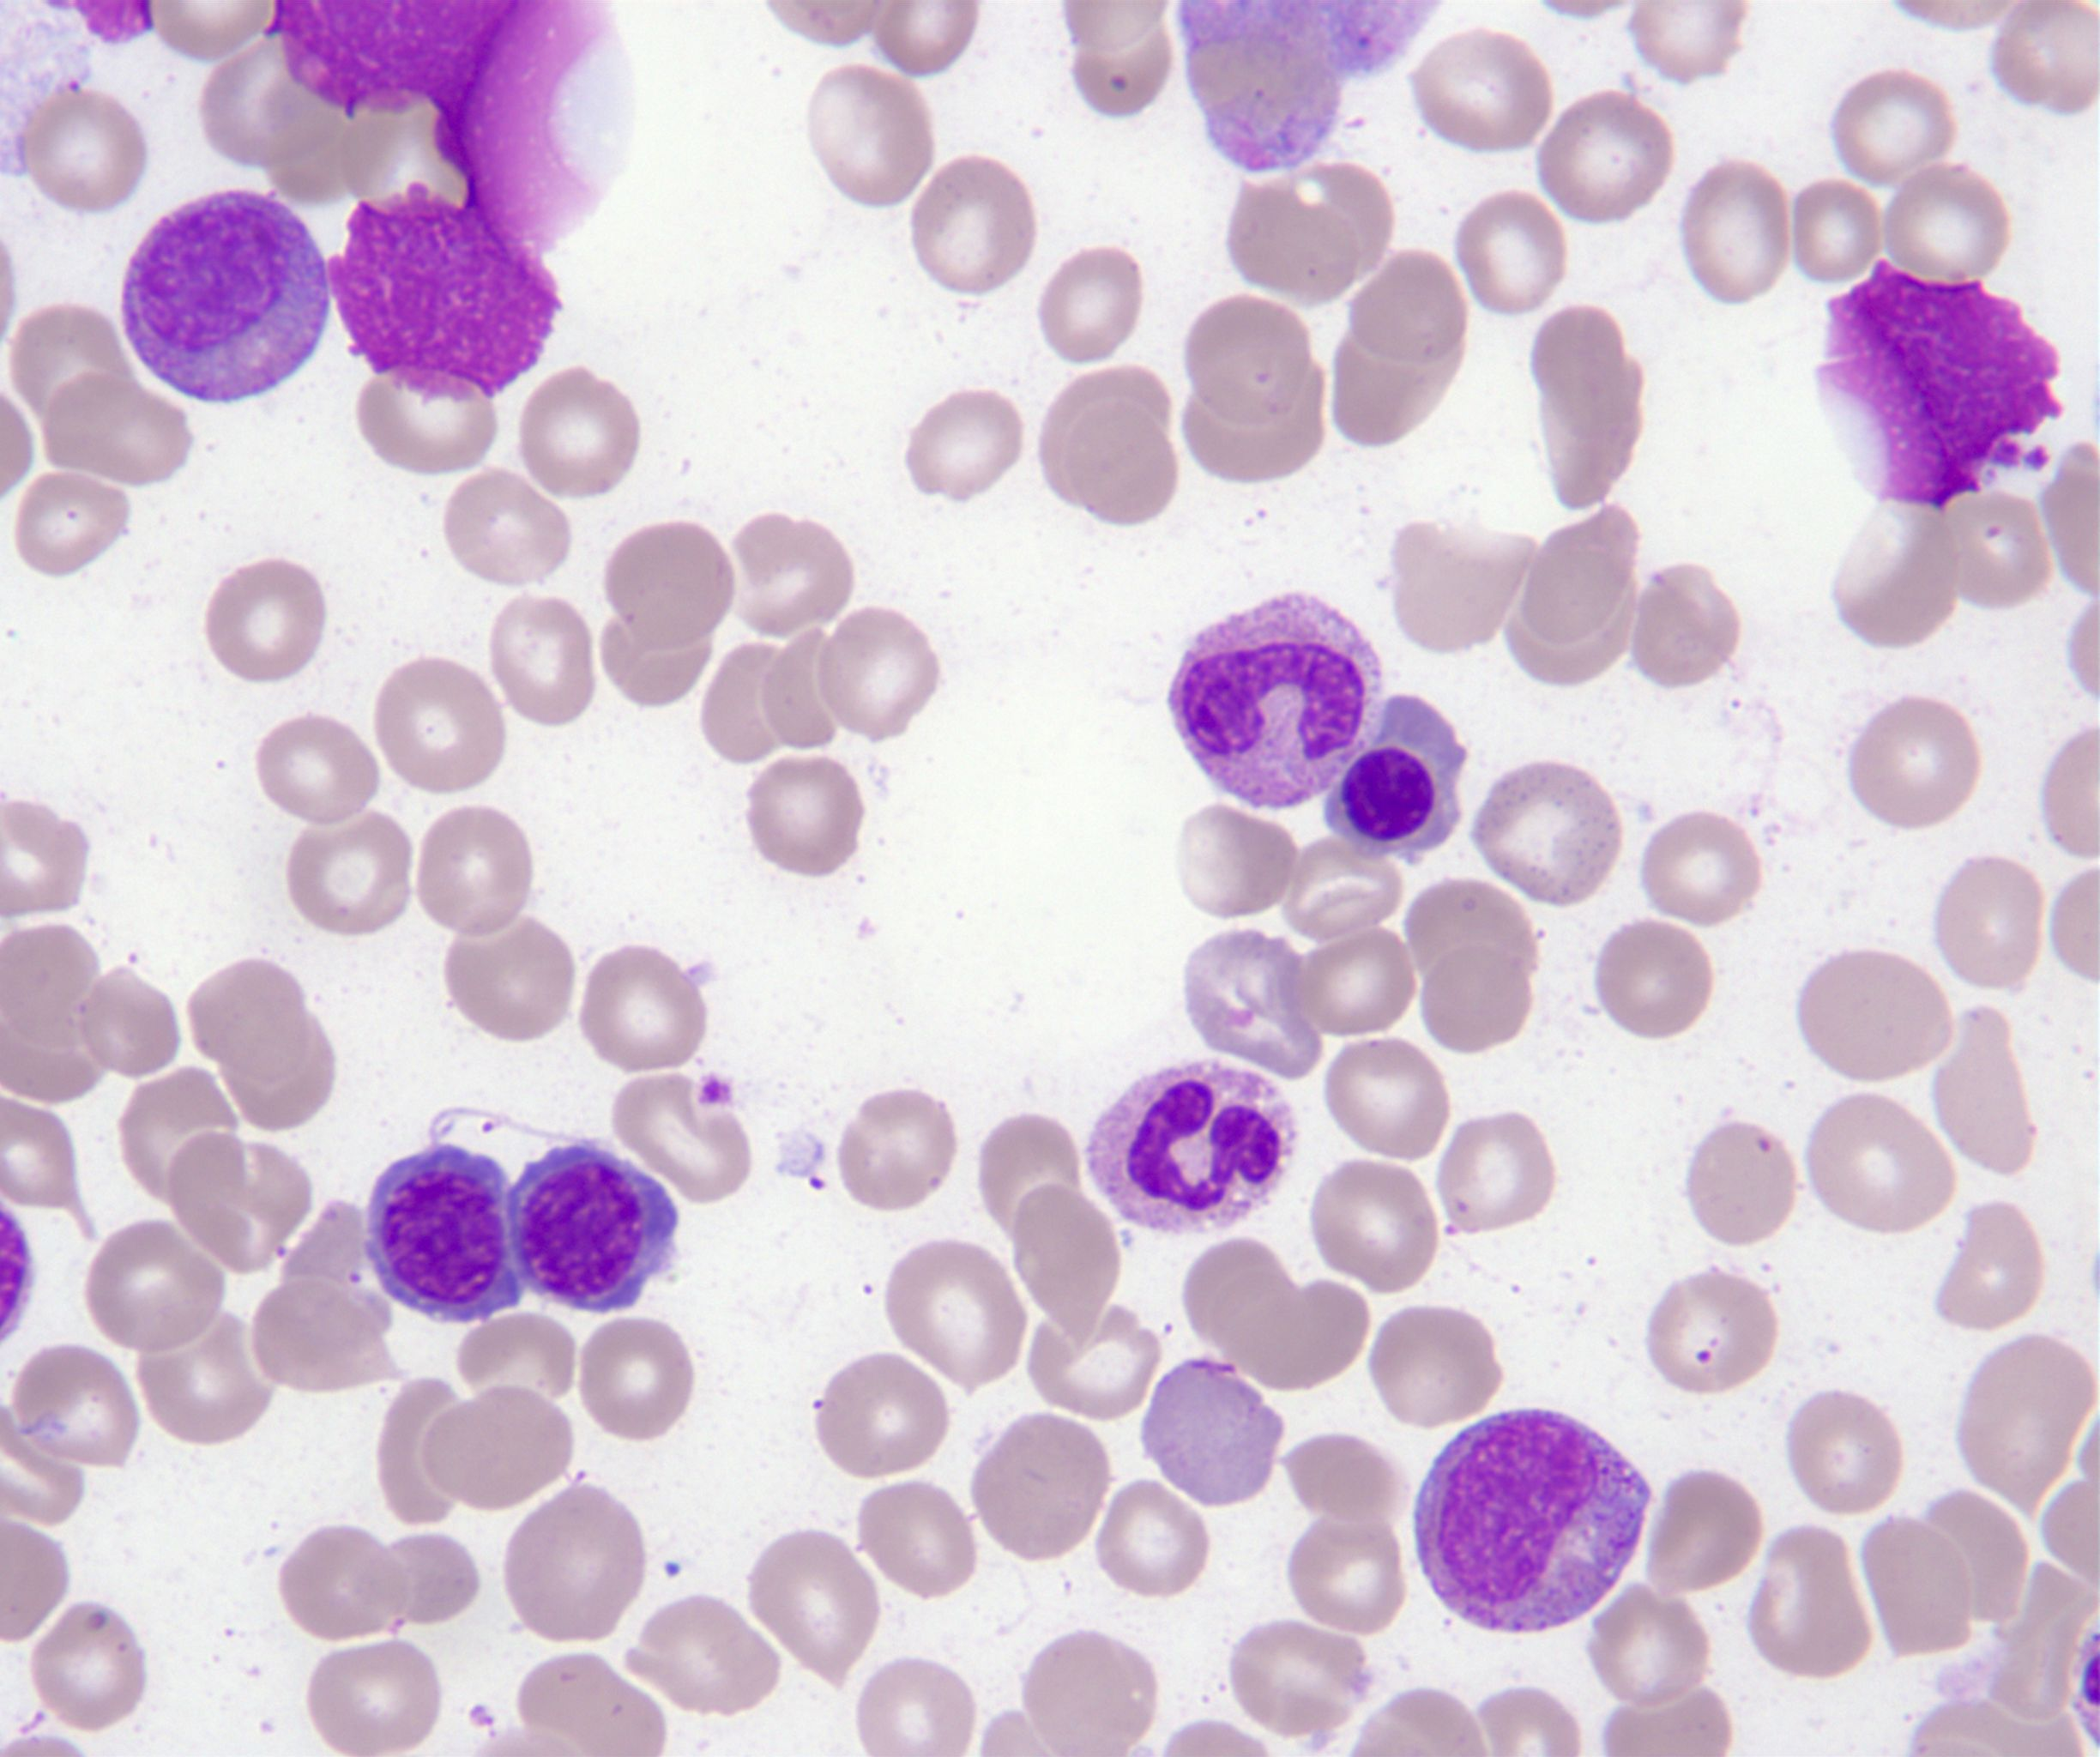23: (508, 1143, 678, 1312), (366, 1145, 522, 1321)
24: (1324, 698, 1465, 864)
3: (1418, 1408, 1652, 1631), (124, 192, 324, 403)
5: (1169, 593, 1380, 811), (1090, 1064, 1296, 1235)
x: (262, 2, 610, 401), (1817, 258, 2063, 513)
